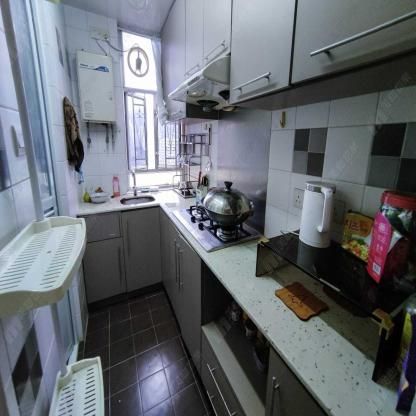Cupboard: (83, 206, 199, 377)
Exhaust Fan: (127, 43, 151, 79)
Exhaust Hood: (168, 56, 233, 114)
Faucet: (130, 168, 139, 195)
Sink: (123, 196, 153, 205)
Stove: (172, 207, 257, 251)
